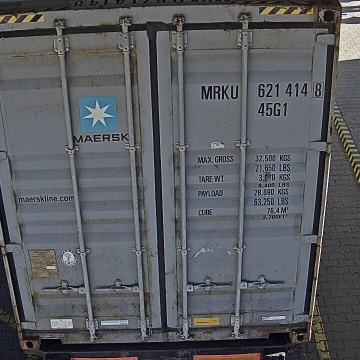serial_id: (201, 81, 323, 99)
